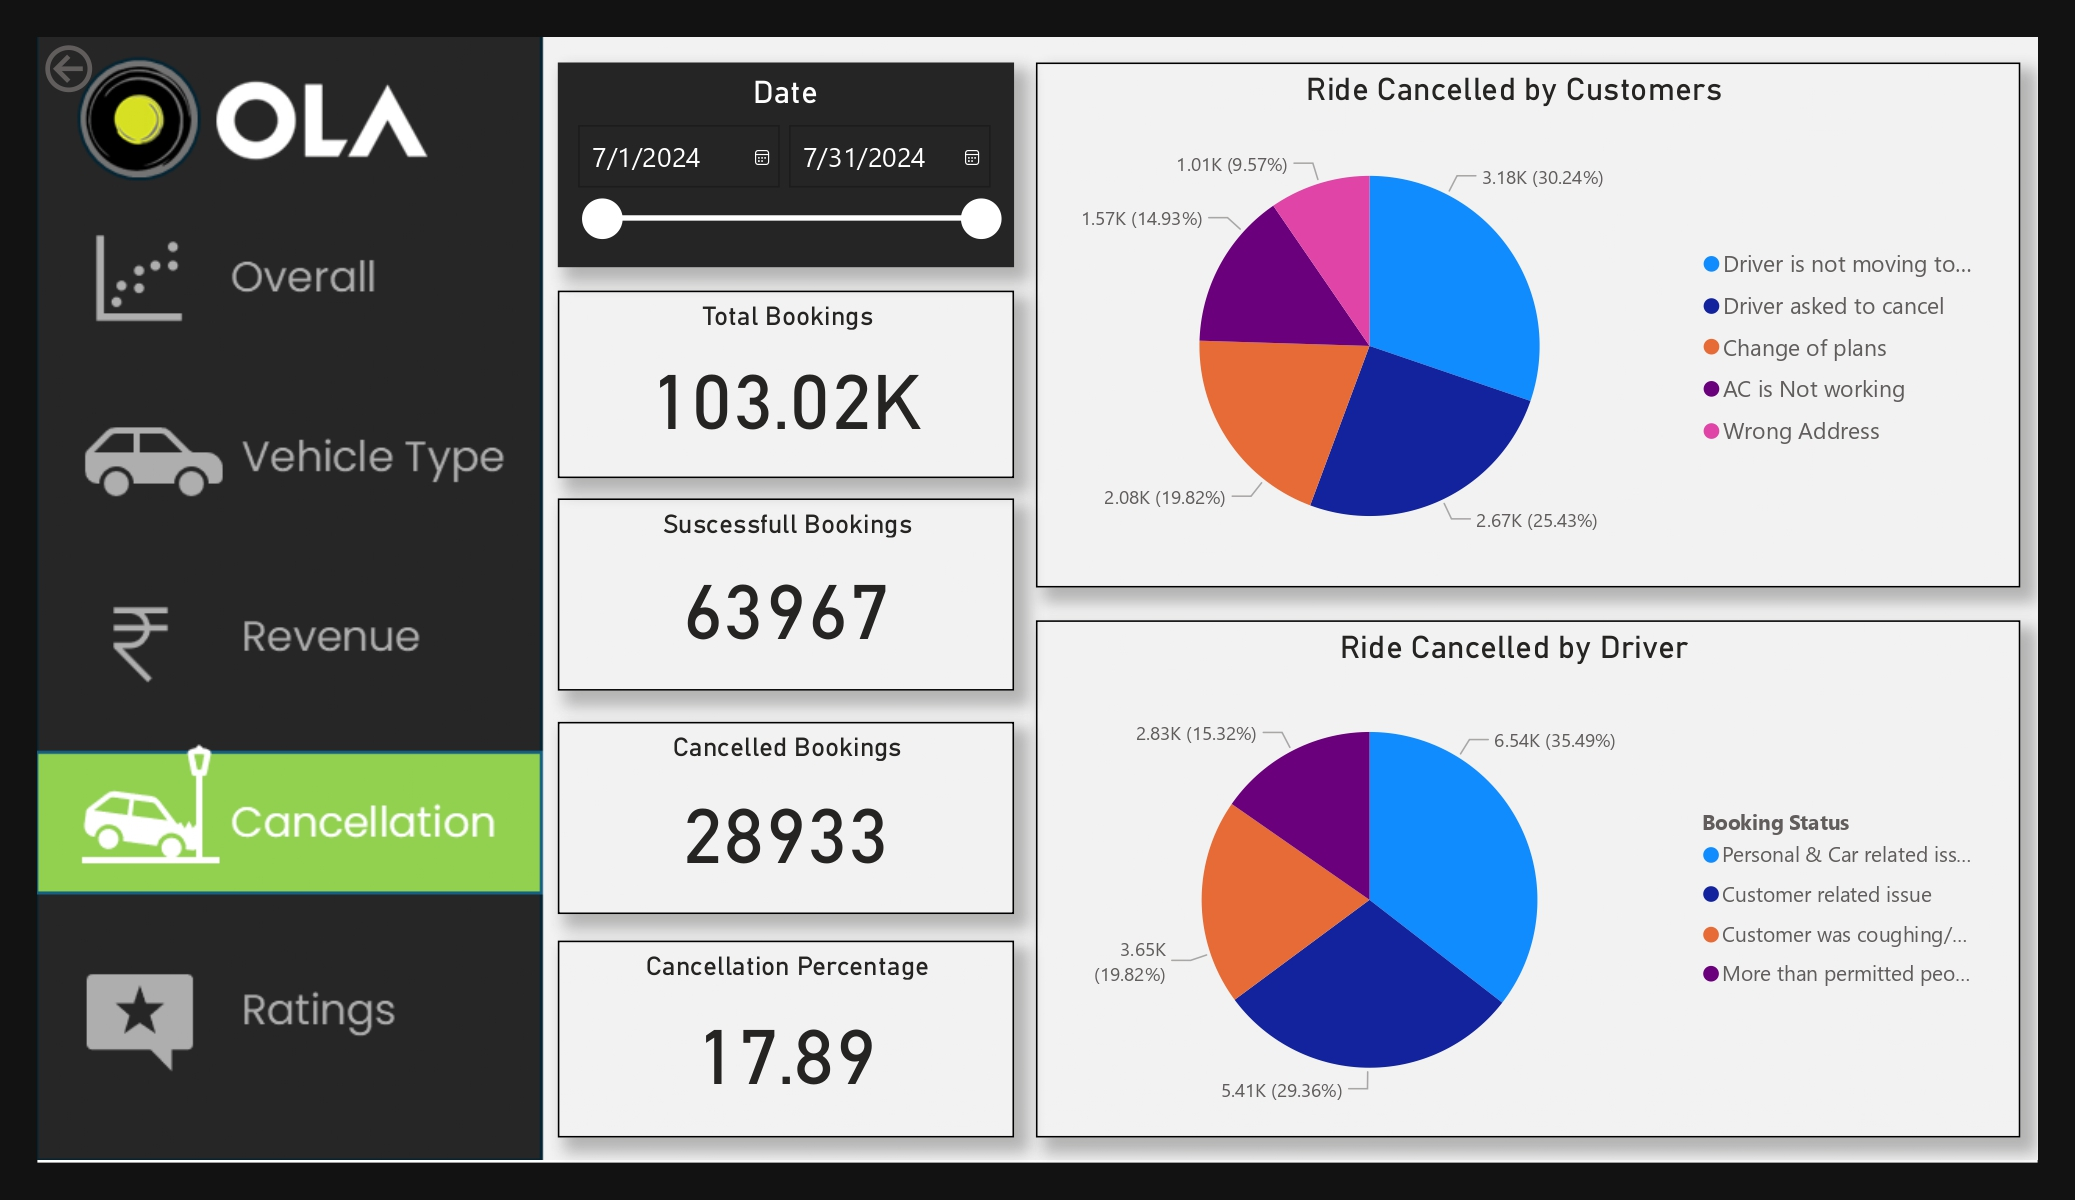

This screenshot's page, from the dashboard's own definition file:
{"tool":"powerbi","page":{"name":"cancellation","canvas":[1280,720],"ordinal":4},"visuals":[{"type":"actionButton","box":[0,106.7,322.7,90.8],"z":0},{"type":"actionButton","box":[0,223.3,322.7,90.8],"z":1000},{"type":"actionButton","box":[0,336.2,322.7,90.8],"z":2000},{"type":"actionButton","box":[0,577.9,322.7,90.8],"z":3000},{"type":"pieChart","title":"Ride Cancelled by Customers","fields":{"Y":["CountNonNull(July.Booking_Status)"],"Category":["July.Canceled_Rides_by_Customer"]},"box":[639.4,15.7,629.4,336.2],"z":4000},{"type":"pieChart","title":"Ride Cancelled by Driver","fields":{"Y":["CountNonNull(July.Booking_Status)"],"Category":["July.Canceled_Rides_by_Driver"]},"box":[639.4,373.4,629.4,330.4],"z":5000},{"type":"slicer","title":"Date","fields":{"Values":["July.Date"]},"box":[333.3,15.7,291.8,131.6],"z":6000},{"type":"card","title":"Total Bookings","fields":{"Values":["Count(July.Booking_ID)"]},"box":[333.3,161.6,291.8,120.2],"z":7000},{"type":"card","title":"Suscessfull Bookings","fields":{"Values":["CountNonNull(July.Booking_Status)"]},"box":[333.3,294.7,291.8,123],"z":8000},{"type":"card","title":"Cancelled Bookings","fields":{"Values":["CountNonNull(July.Booking_Value)"]},"box":[333.3,437.7,291.8,123],"z":9000},{"type":"card","title":"Cancellation Percentage","fields":{"Values":["July.cancel Percentage"]},"box":[333.3,577.9,291.8,125.9],"z":10000},{"type":"actionButton","box":[0,0,100,40],"z":11000}]}

Visuals, with their boxes on the page's 1280x720 design canvas (x1, y1, x2, y2). These are canvas units, not pixel positions in the 2075x1200 screenshot, which may show the page scaled, cropped or inside an application window:
actionButton: locate(0, 107, 323, 198)
actionButton: locate(0, 223, 323, 314)
actionButton: locate(0, 336, 323, 427)
actionButton: locate(0, 578, 323, 669)
"Ride Cancelled by Customers" pieChart: locate(639, 16, 1269, 352)
"Ride Cancelled by Driver" pieChart: locate(639, 373, 1269, 704)
"Date" slicer: locate(333, 16, 625, 147)
"Total Bookings" card: locate(333, 162, 625, 282)
"Suscessfull Bookings" card: locate(333, 295, 625, 418)
"Cancelled Bookings" card: locate(333, 438, 625, 561)
"Cancellation Percentage" card: locate(333, 578, 625, 704)
actionButton: locate(0, 0, 100, 40)
